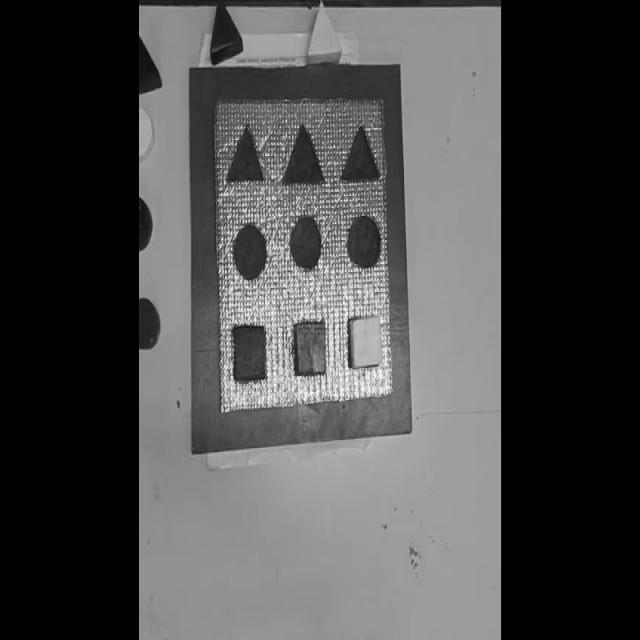bcircle: (138, 197, 152, 252)
bcube: (233, 325, 267, 382)
btriangle: (139, 38, 161, 94)
mtcircle: (233, 222, 268, 280), (290, 214, 324, 271), (348, 214, 381, 267)
mttriangle: (282, 122, 325, 187), (226, 122, 266, 185), (342, 124, 381, 184)
rcircle: (138, 298, 160, 351)
rcube: (294, 321, 327, 376)
rtriangle: (210, 1, 242, 64)
wb: (212, 95, 394, 415)
ycircle: (140, 104, 156, 165)
ycube: (349, 314, 382, 368)
ytriangle: (307, 0, 342, 67)
